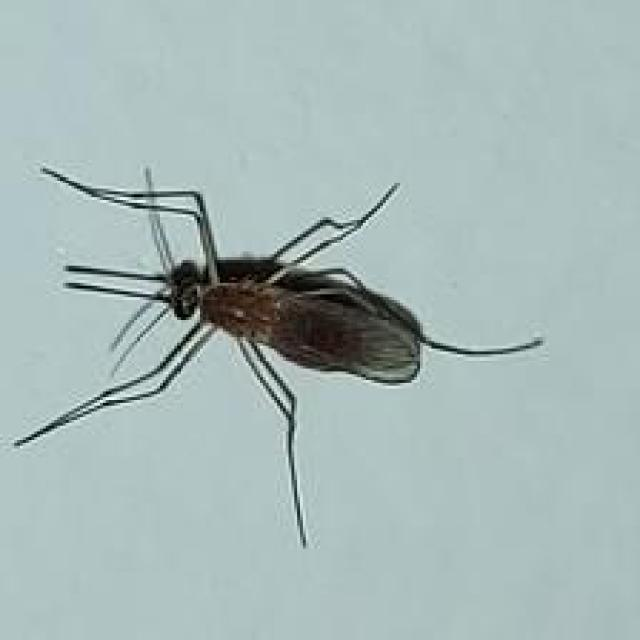Culex: (13, 163, 544, 548)
